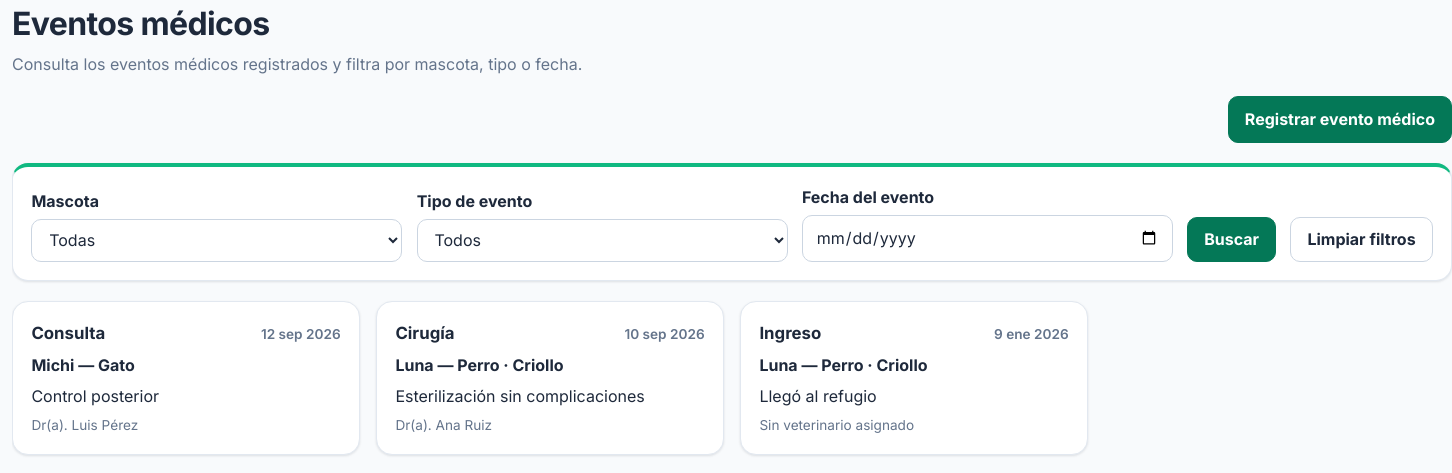
Scenario: MedicalEventsPage › explains when no event matches the filters
Select "Michi — Gato" in the dropdown labelled "Mascota" at (217, 240), box [31, 219, 402, 262]
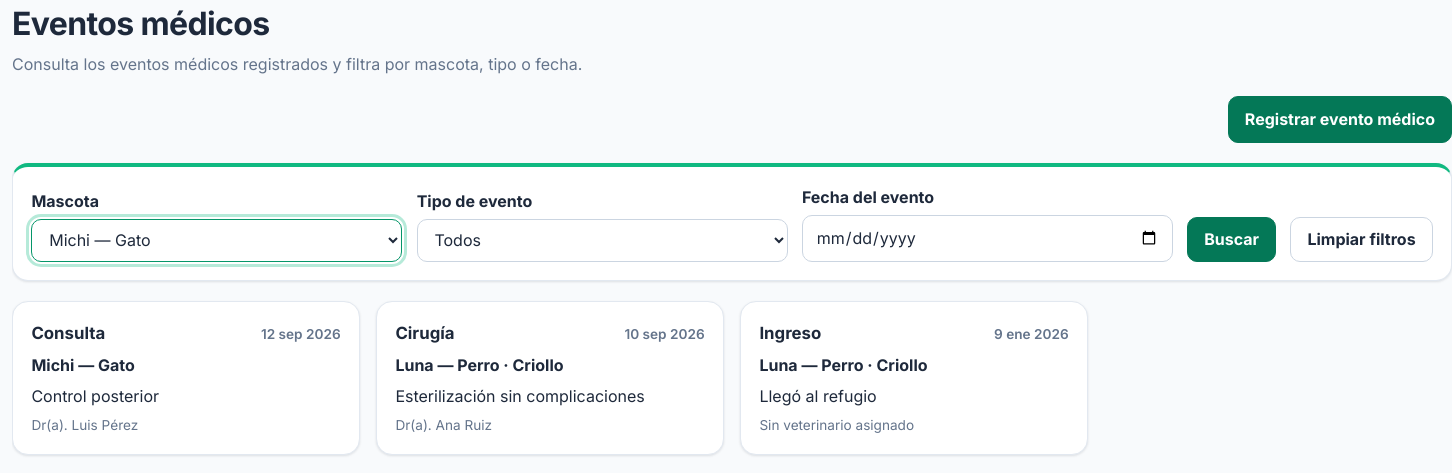
Select "Vacunación" in the dropdown labelled "Tipo de evento" at (602, 240), box [417, 219, 788, 262]
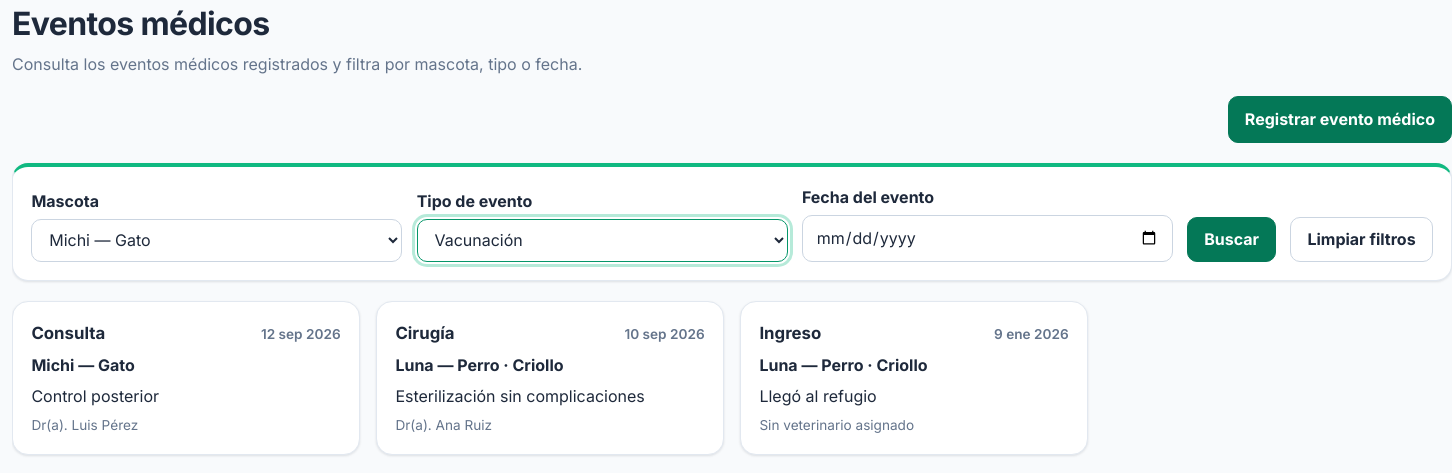
Click the button "Buscar" at (1232, 239), box [1187, 217, 1276, 262]
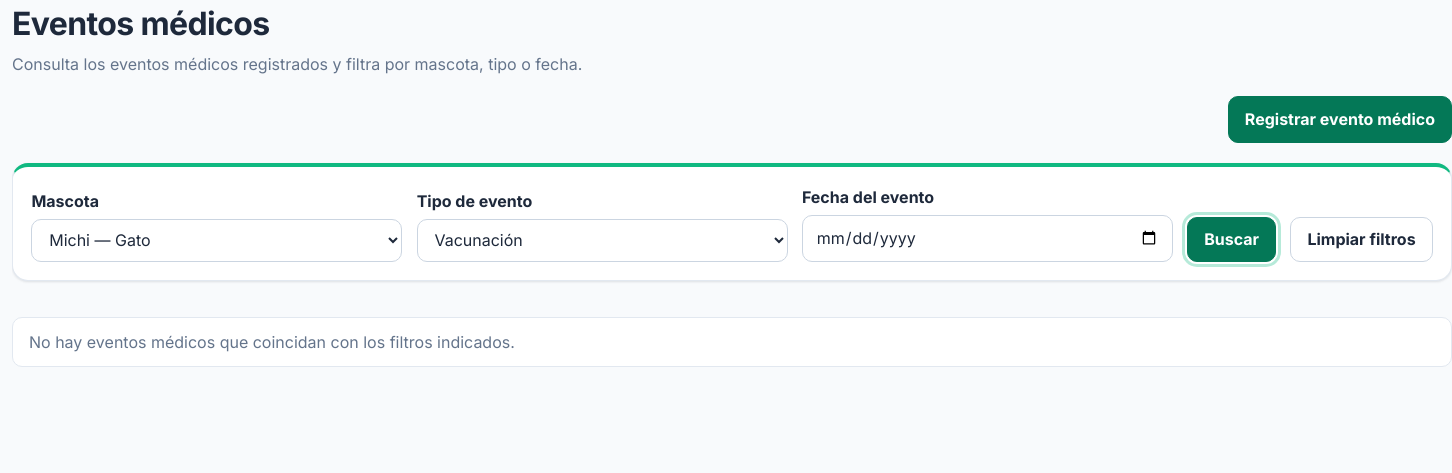
Expected: the text "No hay eventos médicos que coincidan con los filtros indicados." is shown, [29, 330, 515, 354]
Expected: the list is gone
